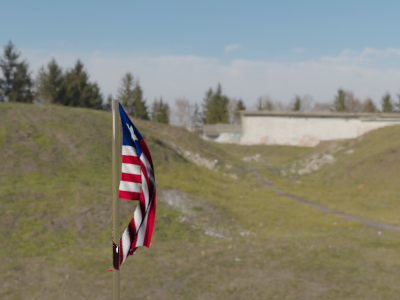Liberia flag: (109, 104, 167, 275)
